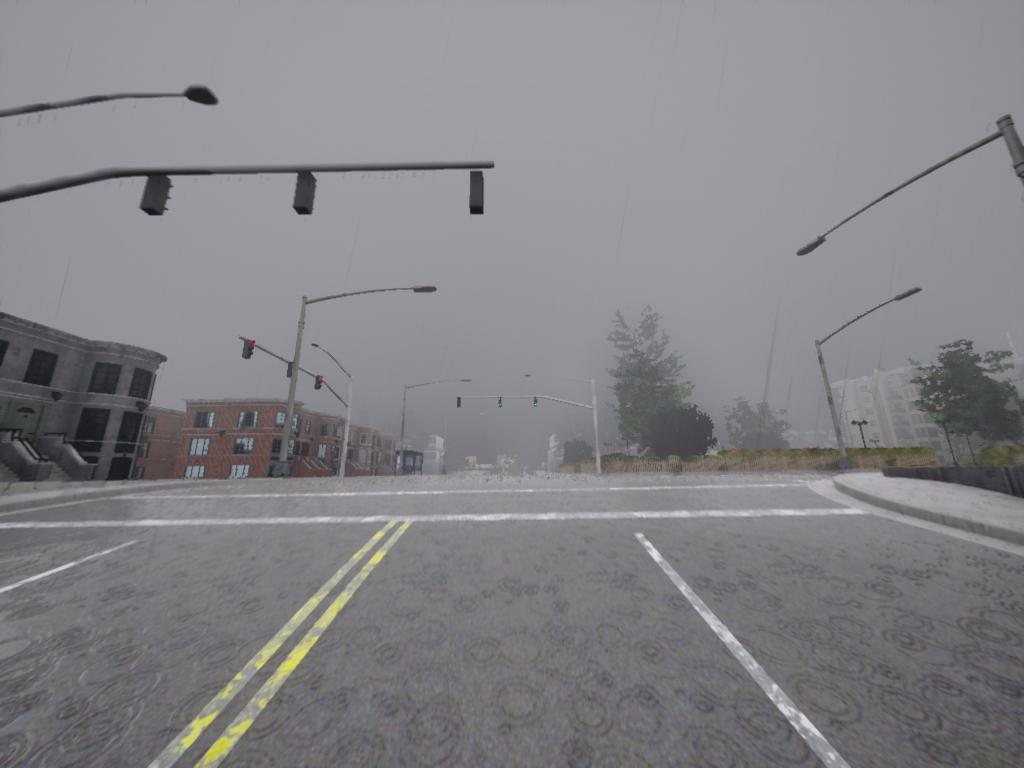traffic_light: (142, 178, 174, 219), (293, 176, 318, 218), (470, 170, 486, 215), (245, 342, 258, 362), (315, 376, 325, 395), (288, 362, 294, 379), (457, 397, 462, 411), (498, 400, 504, 410), (535, 398, 539, 409)
